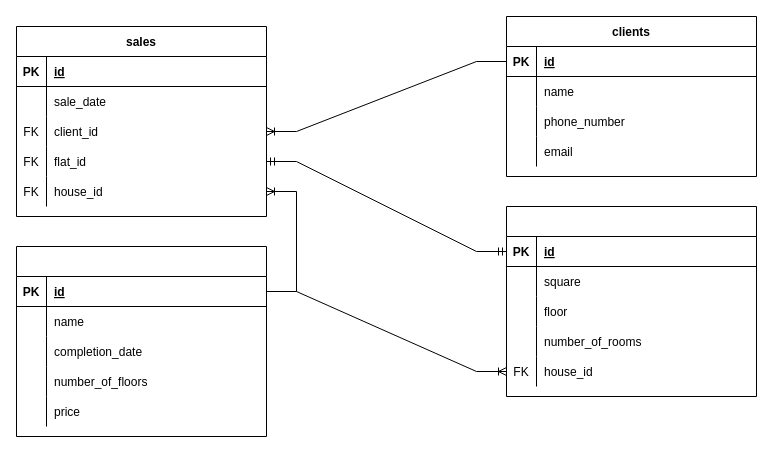
Some shapes in this 773 by 453 pixel diagram are drawn without their labels. Here are the shapes that lost their labels. From the top down, the box of each, then its label:
(506, 206, 756, 396): flats
(16, 246, 266, 436): houses
